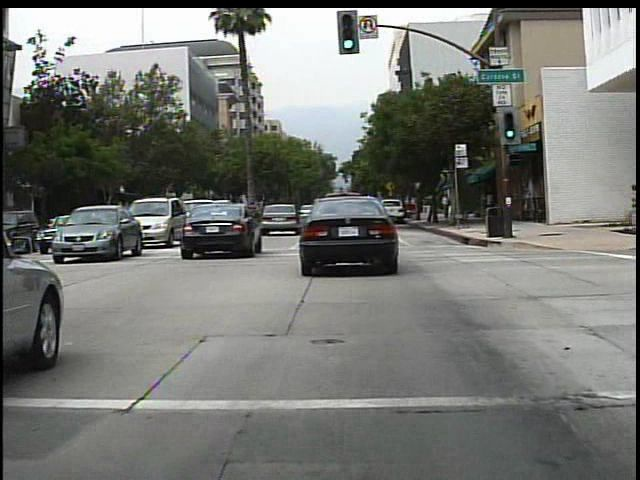person: (437, 191, 456, 224)
